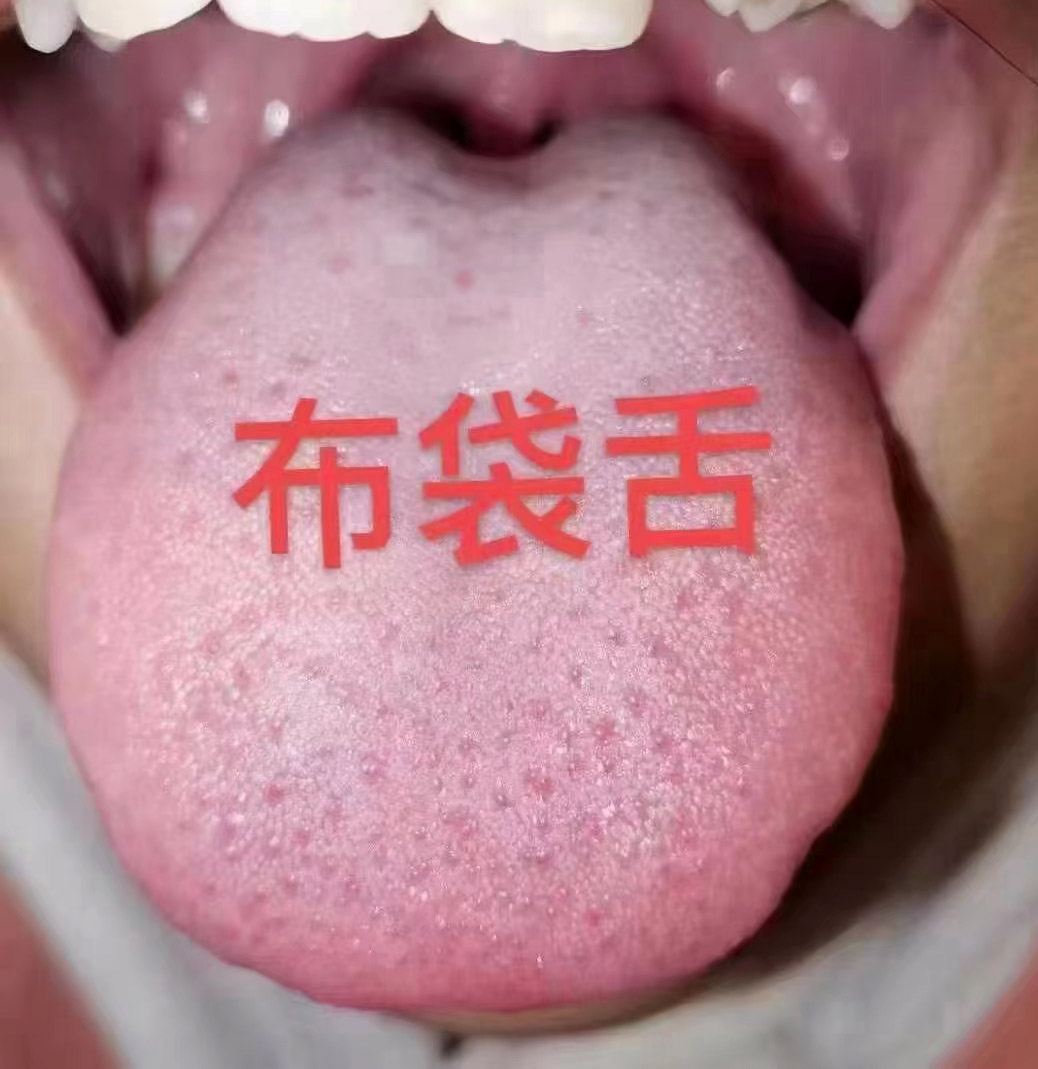baitaishe: (49, 109, 904, 1011)
hongdianshe: (255, 626, 670, 874)
hongshe: (49, 109, 904, 1011)
shenquao: (344, 109, 635, 208)
